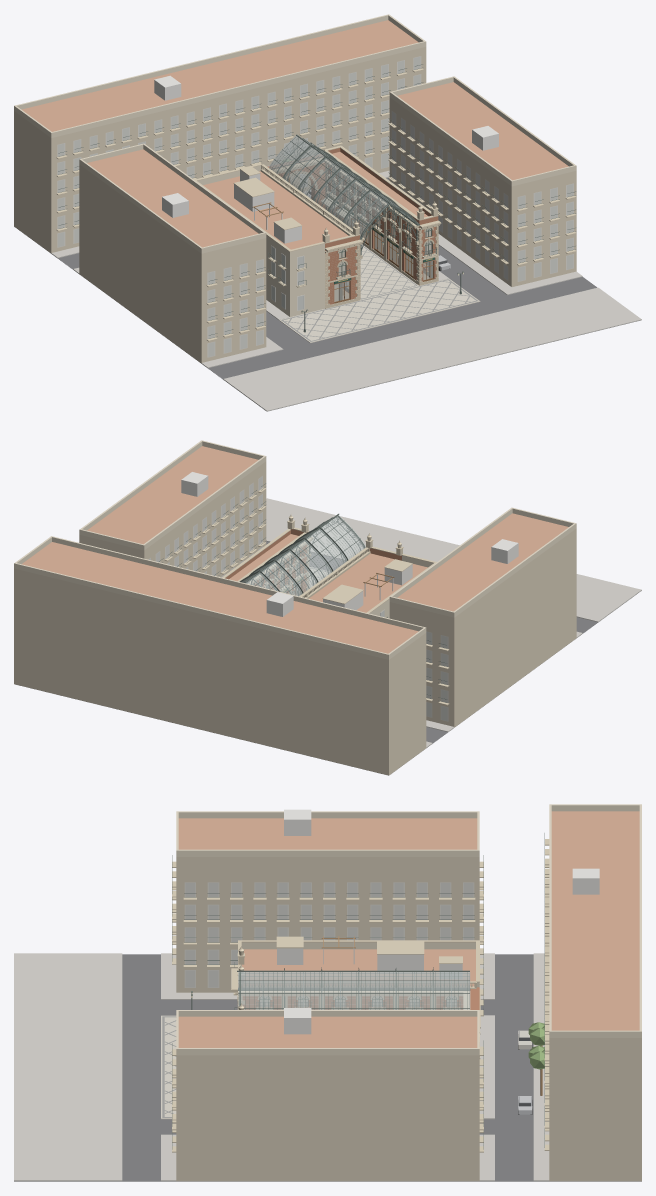
File: clay-barcelona-passatge-clay-v001.glb
The picture shows the model from 3 angles, top to bottom: view 1: azimuth 30°, elevation 25°; view 2: azimuth 150°, elevation 25°; view 3: azimuth 270°, elevation 25°; orthographic projection. The views are drawn at different scales.
Visible parts, largest first — view 1: CLAY_STUCCO2, CLAY_TERRACOTTA, CLAY_CONCRETE, CLAY_TRIM, CLAY_GLASS, CLAY_STUCCO, CLAY_STONE, CLAY_ASPHALT, CLAY_TILE, CLAY_IRON, CLAY_BRICK, CLAY_WHITE (+3 smaller); view 2: CLAY_STUCCO2, CLAY_TERRACOTTA, CLAY_STUCCO, CLAY_CONCRETE, CLAY_GLASS, CLAY_STONE, CLAY_TRIM, CLAY_IRON, CLAY_WHITE, CLAY_BRICK, CLAY_ASPHALT; view 3: CLAY_STUCCO2, CLAY_TERRACOTTA, CLAY_CONCRETE, CLAY_ASPHALT, CLAY_GLASS, CLAY_STUCCO, CLAY_STONE, CLAY_TRIM, CLAY_IRON, CLAY_WHITE, CLAY_BRICK, CLAY_TILE (+2 smaller).
Boxes of the visible parts, bbox=[...] form: CLAY_STUCCO2: bbox=[14, 47, 576, 363]; CLAY_TERRACOTTA: bbox=[22, 20, 568, 249]; CLAY_CONCRETE: bbox=[51, 170, 641, 411]; CLAY_TRIM: bbox=[57, 56, 573, 357]; CLAY_GLASS: bbox=[58, 57, 572, 356]; CLAY_STUCCO: bbox=[14, 14, 576, 316]; CLAY_STONE: bbox=[56, 68, 576, 341]; CLAY_ASPHALT: bbox=[18, 178, 640, 411]; CLAY_TILE: bbox=[279, 244, 480, 343]; CLAY_IRON: bbox=[58, 64, 576, 338]; CLAY_BRICK: bbox=[267, 148, 438, 304]; CLAY_WHITE: bbox=[154, 75, 498, 243]; CLAY_STUCCO2: bbox=[14, 461, 576, 775]; CLAY_TERRACOTTA: bbox=[22, 446, 568, 653]; CLAY_STUCCO: bbox=[14, 440, 576, 659]; CLAY_CONCRETE: bbox=[266, 498, 641, 747]; CLAY_GLASS: bbox=[149, 477, 447, 720]; CLAY_STONE: bbox=[164, 487, 449, 705]; CLAY_TRIM: bbox=[148, 476, 448, 721]; CLAY_IRON: bbox=[159, 483, 446, 702]; CLAY_WHITE: bbox=[181, 472, 518, 616]; CLAY_BRICK: bbox=[225, 528, 401, 593]; CLAY_ASPHALT: bbox=[15, 541, 637, 775]; CLAY_STUCCO2: bbox=[176, 857, 641, 1181]; CLAY_TERRACOTTA: bbox=[178, 811, 639, 1047]; CLAY_CONCRETE: bbox=[14, 953, 549, 1181]; CLAY_ASPHALT: bbox=[14, 954, 641, 1181]; CLAY_GLASS: bbox=[186, 883, 472, 1009]; CLAY_STUCCO: bbox=[176, 804, 641, 1055]; CLAY_STONE: bbox=[172, 839, 549, 1152]; CLAY_TRIM: bbox=[184, 882, 474, 987]; CLAY_IRON: bbox=[172, 833, 544, 1149]; CLAY_WHITE: bbox=[277, 809, 599, 1034]; CLAY_BRICK: bbox=[241, 987, 479, 1009]; CLAY_TILE: bbox=[161, 1015, 176, 1119].
Bounding box in the file's own units: 69.5 × 22.9 × 81.2.
